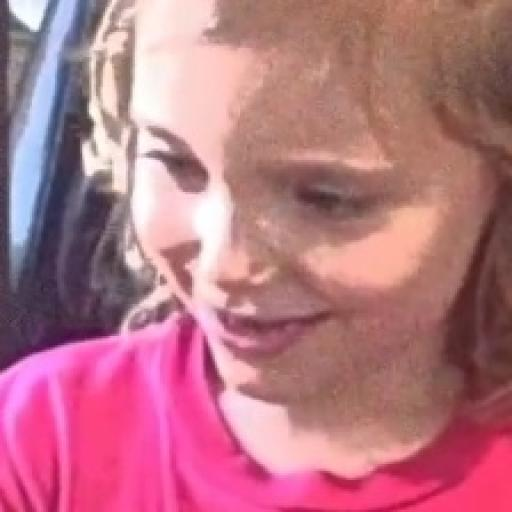Autism: (57, 20, 512, 428)
